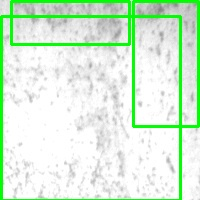pitted_surface: (1, 16, 180, 200), (133, 1, 198, 126), (11, 1, 129, 44)
